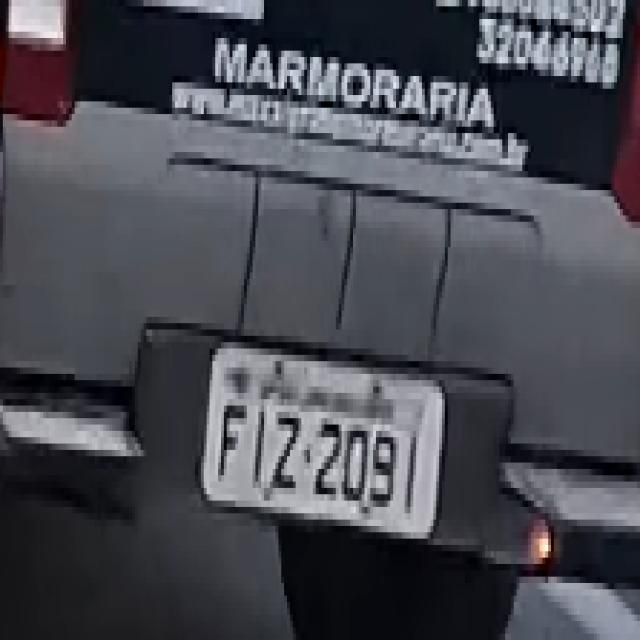Placa_mercosul_carro: (201, 346, 446, 537)
